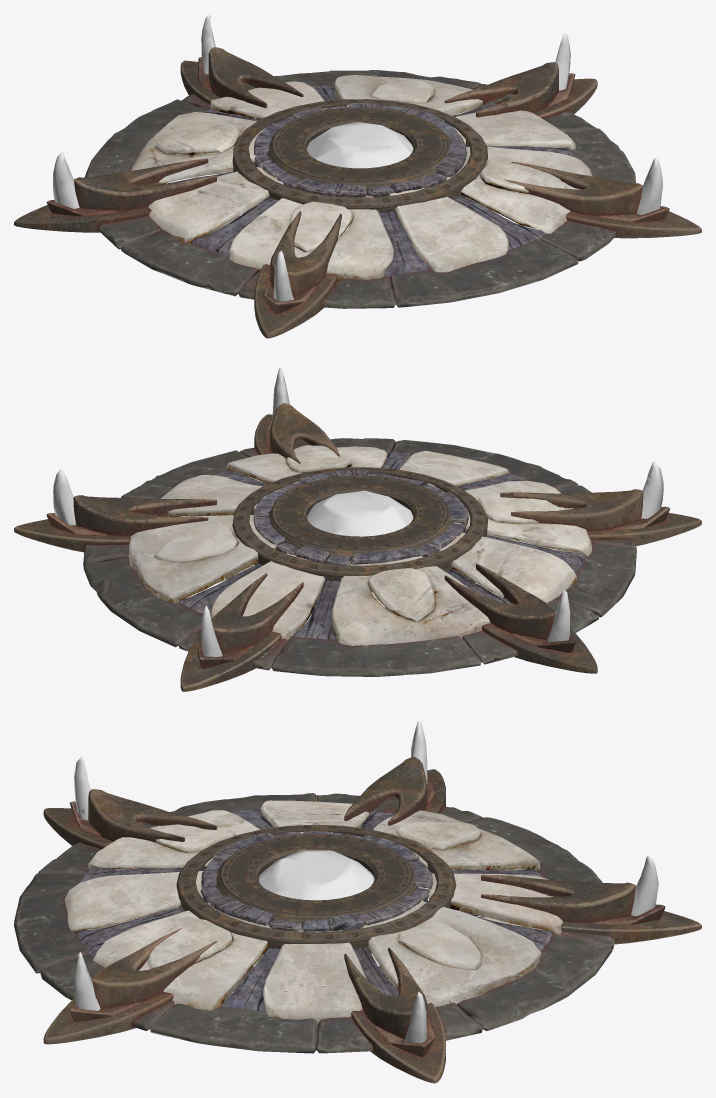
3 views of the same model, one above another, from view 1: azimuth 30°, elevation 25°; view 2: azimuth 150°, elevation 25°; view 3: azimuth 270°, elevation 25° (orthographic). The views are drawn at different scales.
Visible parts, largest first — view 1: SM_Dreamstone_Lodestone_01_LOD0; view 2: SM_Dreamstone_Lodestone_01_LOD0; view 3: SM_Dreamstone_Lodestone_01_LOD0.
Boxes of the visible parts, bbox=[...] form: SM_Dreamstone_Lodestone_01_LOD0: bbox=[14, 14, 701, 338]; SM_Dreamstone_Lodestone_01_LOD0: bbox=[14, 367, 701, 691]; SM_Dreamstone_Lodestone_01_LOD0: bbox=[14, 720, 701, 1083].
Bounding box in the file's own units: 7.17 × 1.03 × 6.72.
4 materials, 3 textured.
